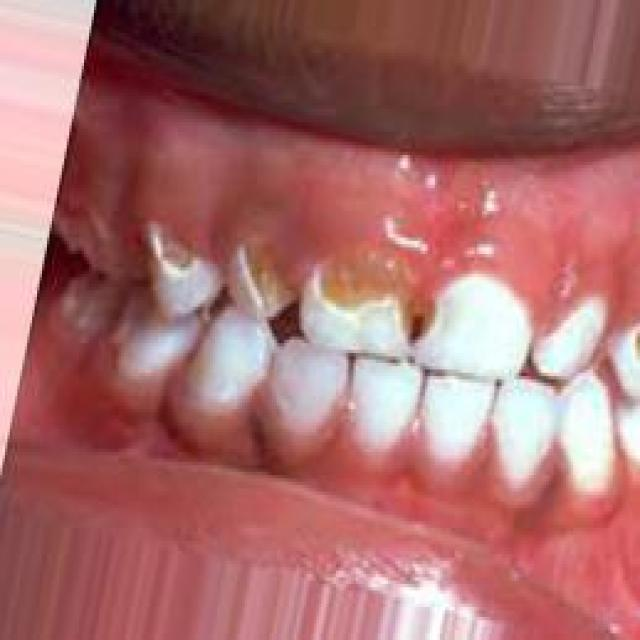caries: (309, 254, 443, 350), (227, 236, 298, 328), (144, 228, 211, 316)
